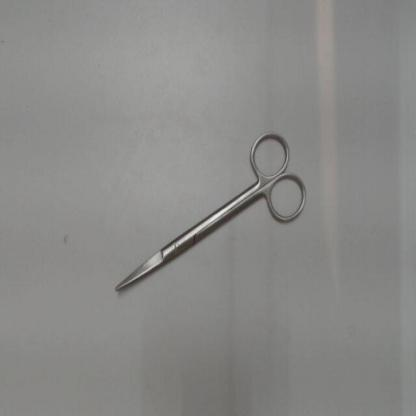Curved Mayo Scissors: (109, 125, 315, 300)
